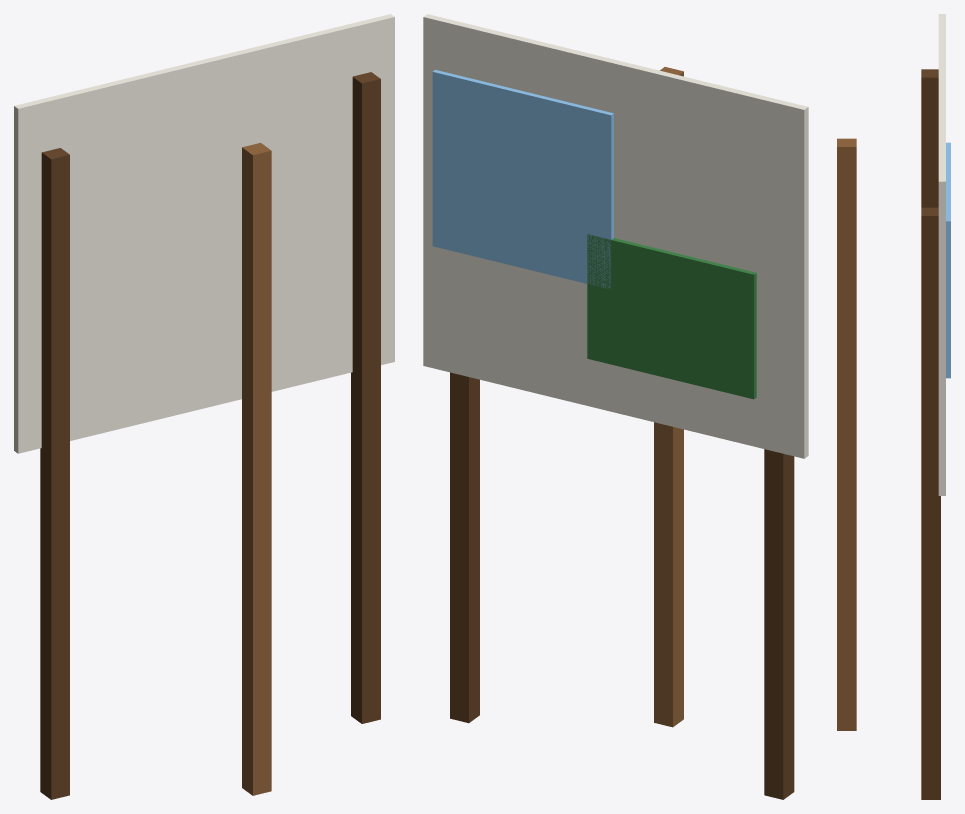
The model's file is easel.glb.
The picture shows the model from 3 angles, left to right: view 1: azimuth 30°, elevation 25°; view 2: azimuth 150°, elevation 25°; view 3: azimuth 270°, elevation 25°; orthographic projection. The views are drawn at different scales.
Parts seen in each view (by area): view 1: easel; view 2: easel; view 3: easel.
Part boxes in pixels (<box>): easel: <box>14,14,394,799</box>; easel: <box>423,14,808,799</box>; easel: <box>837,14,950,799</box>.
Size of the model in its own units: 0.8 by 1.4 by 0.23.
Materials: 1 (1 with a texture image).
